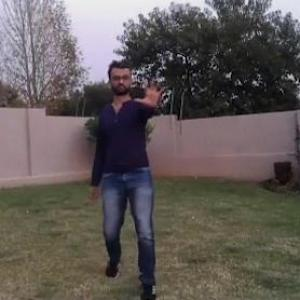follow_hand: (133, 73, 167, 109)
